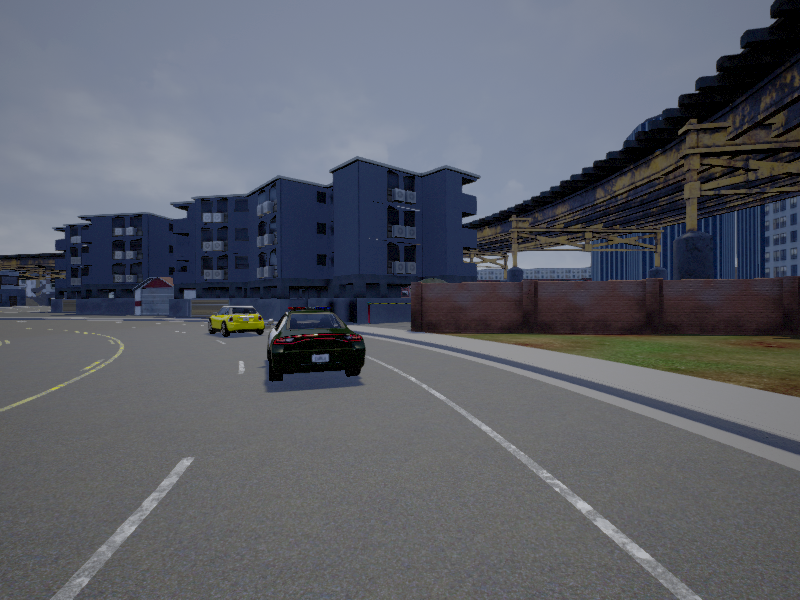Benign: (267, 309, 365, 384), (207, 304, 267, 335)
